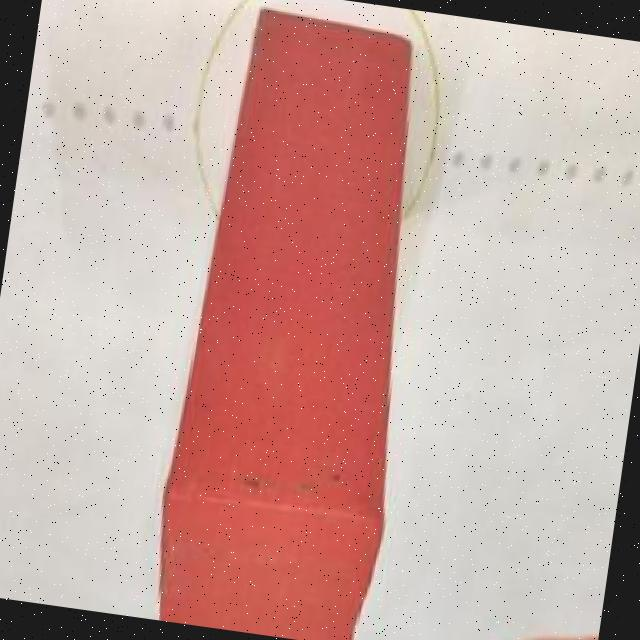redbox: (150, 12, 437, 640)
